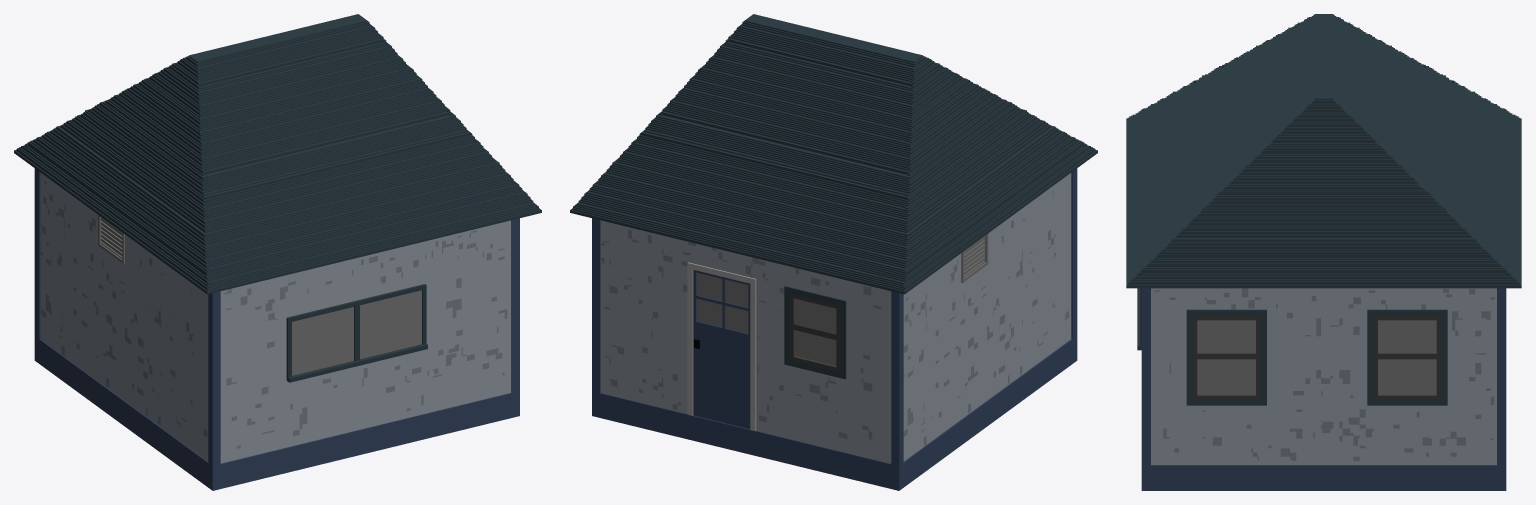
Rendered from home22.obj.
3 renders of one model, left to right at view 1: azimuth 30°, elevation 25°; view 2: azimuth 150°, elevation 25°; view 3: azimuth 270°, elevation 25°, orthographic. The views are drawn at different scales.
Visible parts, largest first — view 1: home1-5; view 2: home1-5; view 3: home1-5.
Part boxes in pixels (bbox=[...]): home1-5: bbox=[14, 14, 541, 490]; home1-5: bbox=[570, 14, 1097, 490]; home1-5: bbox=[1126, 14, 1521, 490].
Bounding box in the file's own units: 25.6 × 25.6 × 25.6.
1 material, 1 textured.
